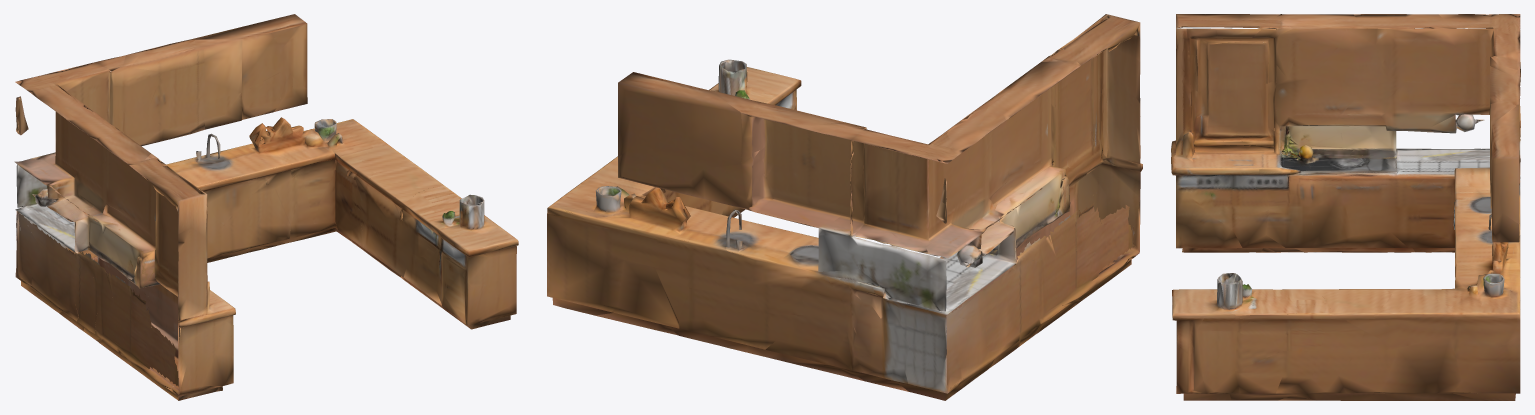
The model's file is Worlde2fe1de289.glb.
The picture shows the model from 3 angles, left to right: view 1: azimuth 30°, elevation 25°; view 2: azimuth 150°, elevation 25°; view 3: azimuth 270°, elevation 25°; orthographic projection. The views are drawn at different scales.
Visible parts, largest first — view 1: Worlde2fe1de289; view 2: Worlde2fe1de289; view 3: Worlde2fe1de289.
Part boxes in pixels (box(x1,y1,x2,y2)): Worlde2fe1de289: box(14, 14, 518, 400); Worlde2fe1de289: box(547, 14, 1142, 400); Worlde2fe1de289: box(1171, 14, 1520, 400).
Size of the model in its own units: 3.6 by 2.05 by 3.03.
1 material, 1 textured.
